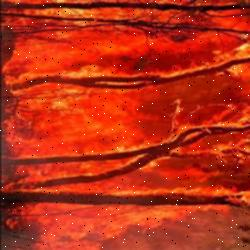fire: (1, 2, 250, 250)
